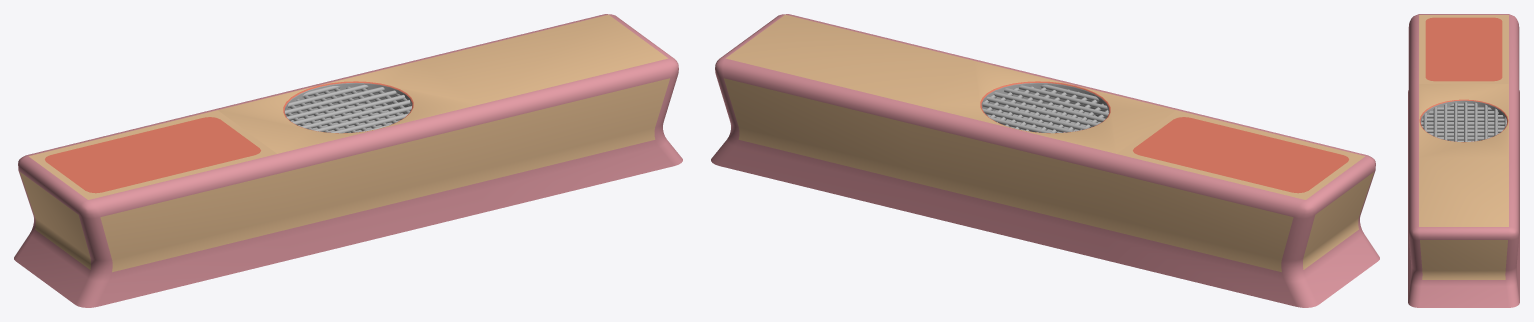
File: ahtapotMasa.fbx
The picture shows the model from 3 angles, left to right: view 1: azimuth 30°, elevation 25°; view 2: azimuth 150°, elevation 25°; view 3: azimuth 270°, elevation 25°; orthographic projection. The views are drawn at different scales.
Parts seen in each view (by area): view 1: AhtapotMasa, izgara; view 2: AhtapotMasa, izgara; view 3: AhtapotMasa, izgara.
Boxes of the visible parts, bbox=[...] form: AhtapotMasa: bbox=[14, 14, 682, 307]; izgara: bbox=[285, 84, 411, 133]; AhtapotMasa: bbox=[711, 14, 1379, 307]; izgara: bbox=[982, 84, 1108, 133]; AhtapotMasa: bbox=[1408, 14, 1519, 307]; izgara: bbox=[1421, 102, 1506, 141].
Size of the model in its own units: 441 by 70.91 by 94.12.
